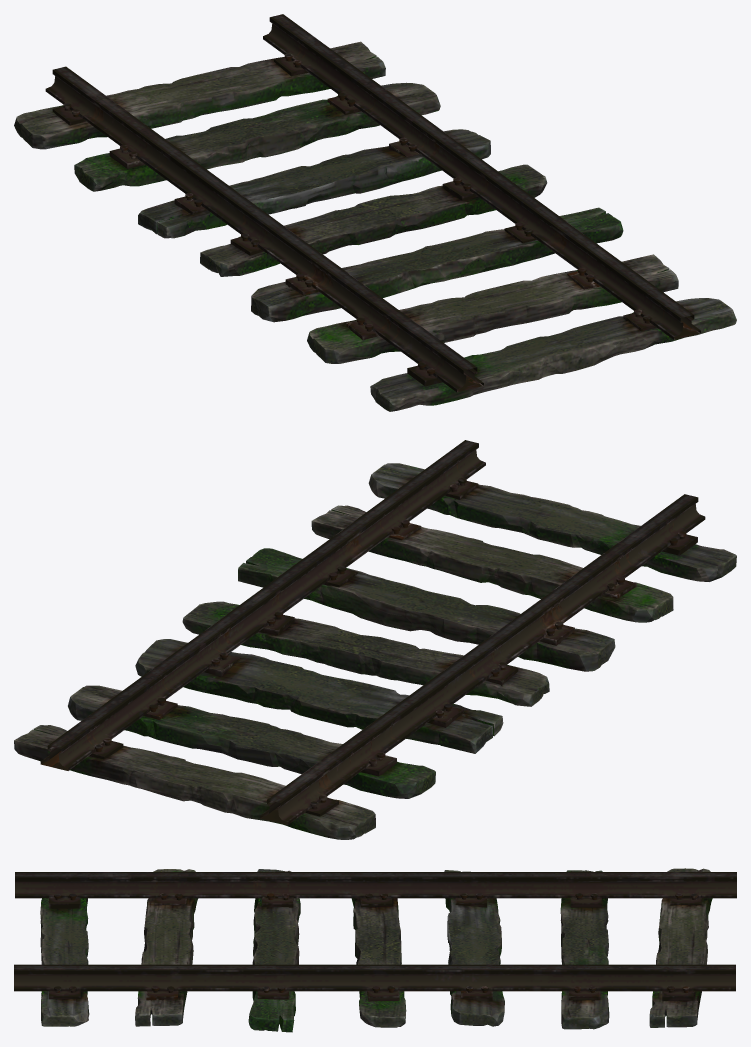
Rendered from Railway.fbx.
3 views of the same model, one above another, from view 1: azimuth 30°, elevation 25°; view 2: azimuth 150°, elevation 25°; view 3: azimuth 270°, elevation 25° (orthographic). The views are drawn at different scales.
Visible parts, largest first — view 1: Railway_LOD0; view 2: Railway_LOD0; view 3: Railway_LOD0.
Part boxes in pixels (<box>): Railway_LOD0: <box>14,14,736,411</box>; Railway_LOD0: <box>14,440,736,839</box>; Railway_LOD0: <box>14,868,736,1032</box>.
Size of what is drawn, in the model's own units: 2.18 by 4.42 by 0.2634.
